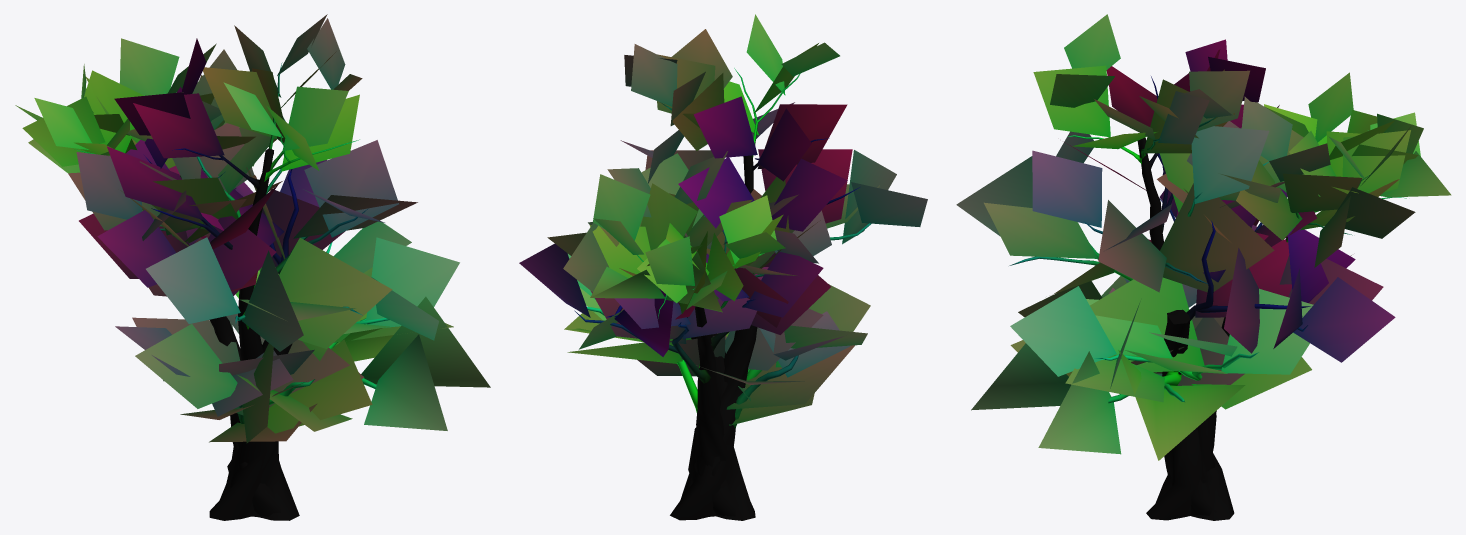
Rendered from OldTree02.fbx.
3 renders of one model, left to right at view 1: azimuth 30°, elevation 25°; view 2: azimuth 150°, elevation 25°; view 3: azimuth 270°, elevation 25°, orthographic. The views are drawn at different scales.
Visible parts, largest first — view 1: OldTree02; view 2: OldTree02; view 3: OldTree02.
Part boxes in pixels (x1,y1,x2,y2): OldTree02: (15,14,490,520); OldTree02: (519,14,927,520); OldTree02: (956,14,1451,520).
Size of the model in its own units: 598 by 797 by 781.
